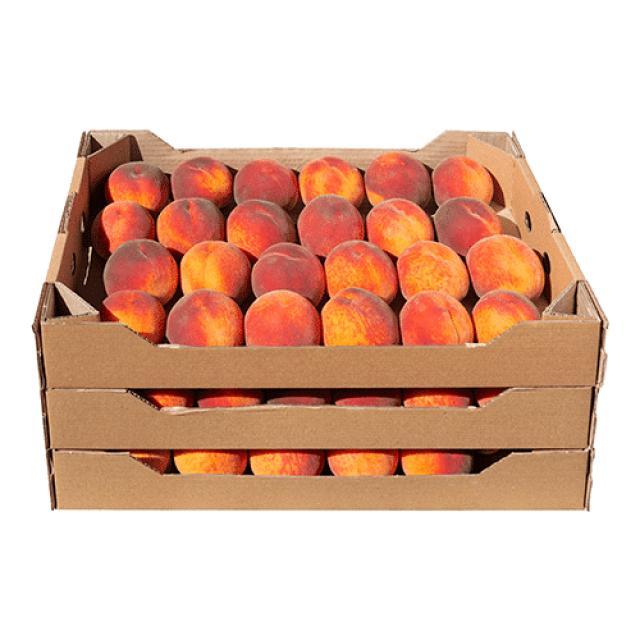peach: (466, 234, 545, 300), (104, 239, 179, 302), (244, 289, 324, 348), (324, 287, 401, 347), (165, 289, 242, 348), (398, 242, 470, 302), (325, 241, 397, 300), (251, 244, 324, 301), (179, 242, 250, 298), (399, 291, 471, 346), (474, 288, 543, 344), (157, 200, 227, 253), (367, 154, 431, 207), (300, 156, 365, 206), (108, 164, 170, 214), (234, 160, 298, 207), (433, 157, 493, 207), (172, 159, 233, 206)
